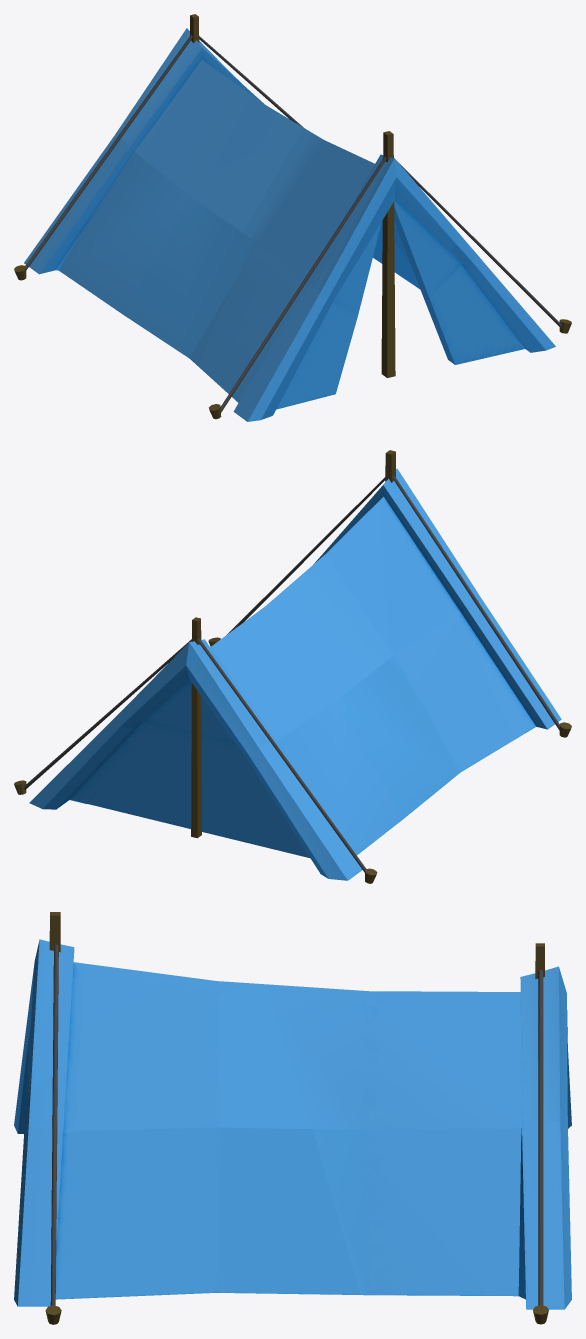
File: Base 1 Cut.fbx
The picture shows the model from 3 angles, top to bottom: view 1: azimuth 30°, elevation 25°; view 2: azimuth 150°, elevation 25°; view 3: azimuth 270°, elevation 25°; orthographic projection. The views are drawn at different scales.
Parts seen in each view (by area): view 1: Cut_3, Cut_8, Cut_4, Cut_6, Cut_5, Cut_1, Cut_11, Cut_12, Cut_9; view 2: Cut_8, Cut_6, Cut_3, Cut_5, Cut_2, Cut_11, Cut_12, Cut_10, Cut_9; view 3: Cut_4, Cut_8, Cut_3, Cut_6, Cut_9, Cut_10.
Boxes of the visible parts, x1,y1,x2,y2 form: Cut_3: [197, 133, 459, 421]; Cut_8: [59, 60, 377, 353]; Cut_4: [374, 220, 555, 364]; Cut_6: [24, 28, 263, 274]; Cut_5: [183, 128, 312, 365]; Cut_1: [381, 131, 395, 377]; Cut_11: [208, 156, 386, 419]; Cut_12: [14, 35, 192, 280]; Cut_9: [397, 161, 571, 333]; Cut_8: [70, 571, 454, 855]; Cut_6: [29, 639, 362, 880]; Cut_3: [315, 468, 561, 765]; Cut_5: [306, 563, 471, 776]; Cut_2: [191, 617, 201, 838]; Cut_11: [393, 475, 571, 737]; Cut_12: [198, 638, 377, 883]; Cut_10: [14, 639, 191, 794]; Cut_9: [208, 477, 385, 646]; Cut_4: [14, 983, 360, 1306]; Cut_8: [267, 984, 521, 1296]; Cut_3: [14, 939, 243, 1133]; Cut_6: [518, 966, 571, 1309]; Cut_9: [45, 944, 61, 1324]; Cut_10: [533, 970, 548, 1324].
Size of the model in its own units: 408 by 265 by 435.
Materials: 1 (1 with a texture image).
